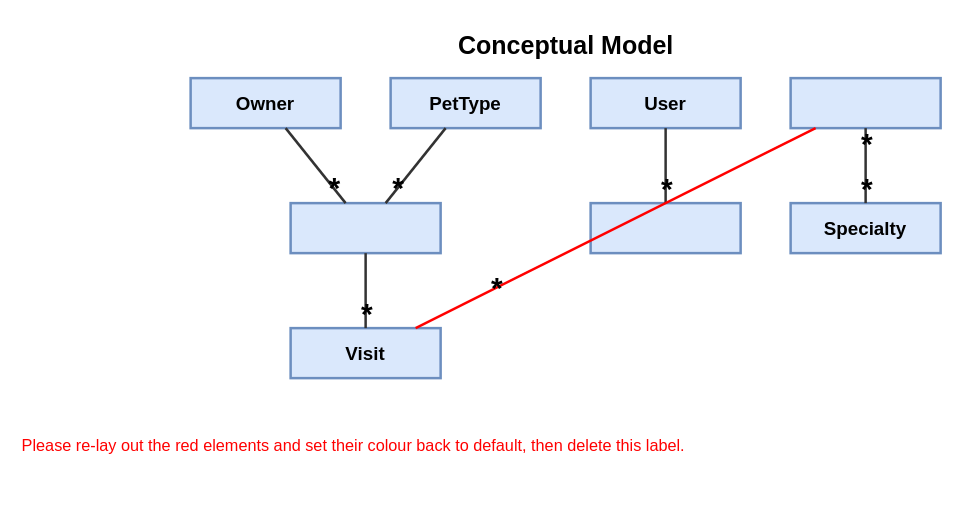
The diagram is 963 pixels wide and 524 high, and some of its shapes have lost their labels. Here are the shapes that lost their labels. From the top down, the centre of each, then its label:
At point 865,102: "Vet".
At point 365,227: "Pet".
At point 665,227: "Role".
